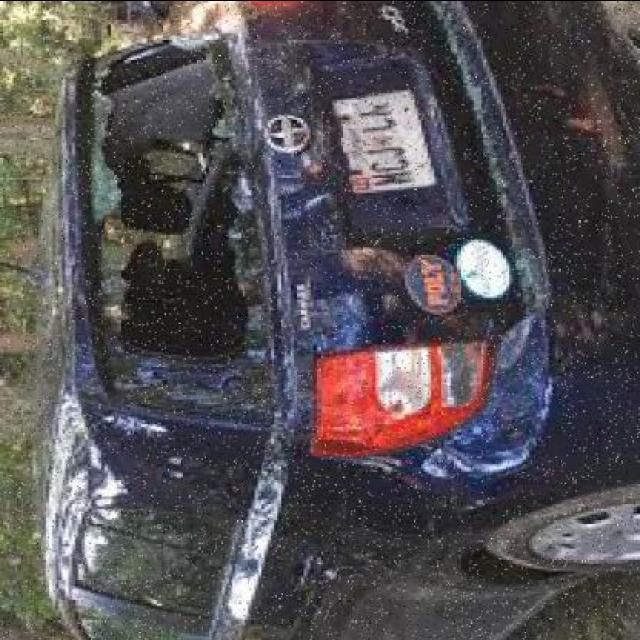Rear-windscreen-Damage: (35, 2, 323, 431)
